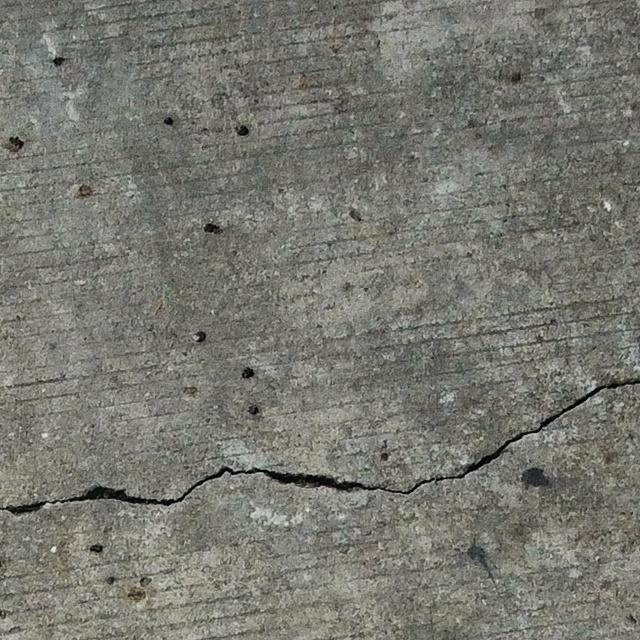TransverseCrack: (1, 377, 640, 519)
